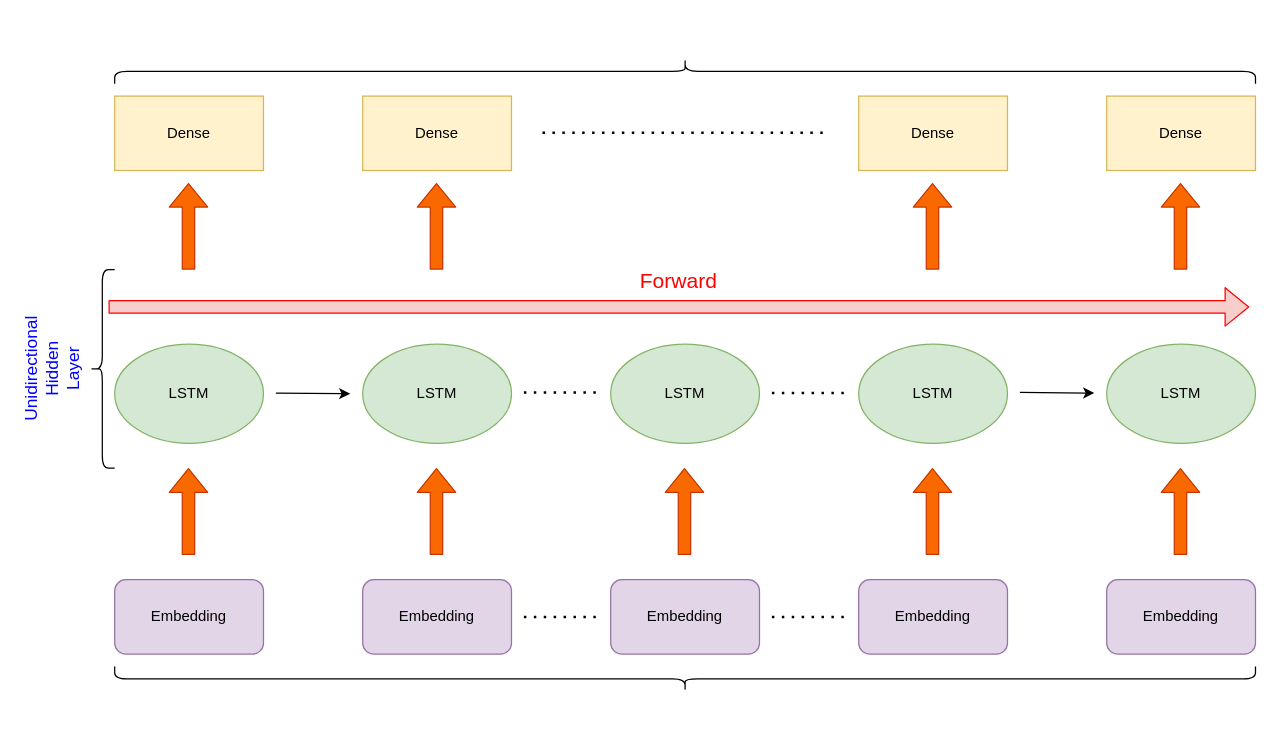
Image size: 1277x737. Some labels were removed from this diagram. The shapes that lost their labels are listed below. From the top down, each one's box as (x1, y1, x2, y2) in pixels, then its label:
(113, 58, 1256, 84): Output Layer
(113, 665, 1256, 691): Input Layer
